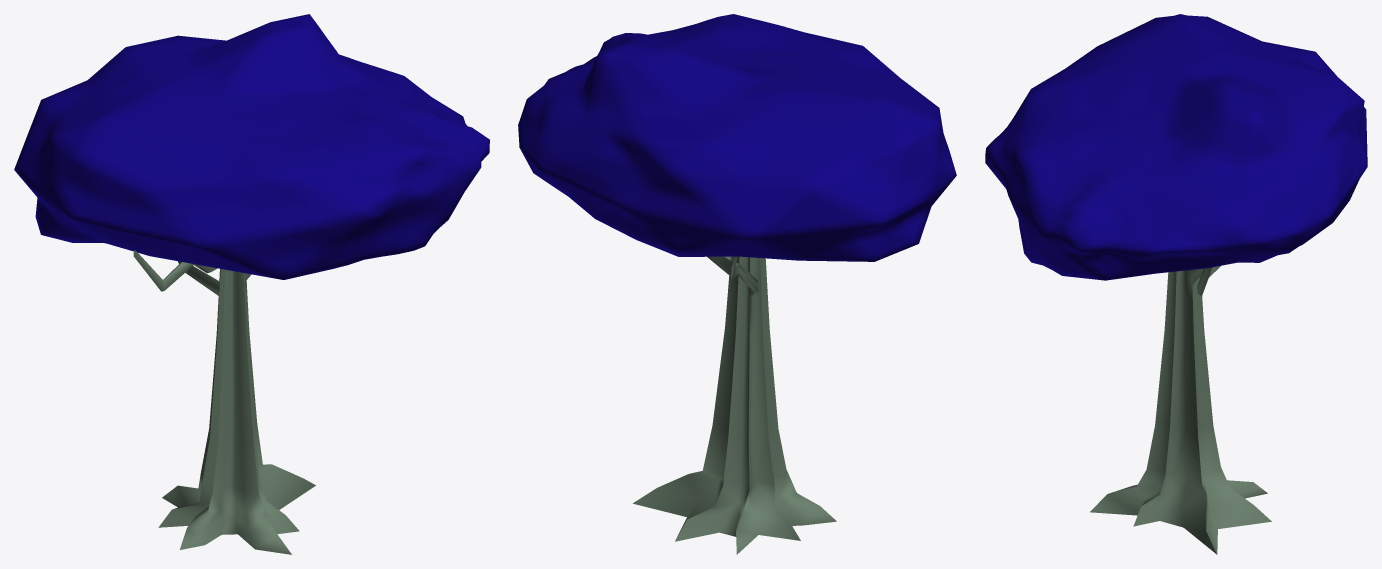
File: Tree.fbx
The picture shows the model from 3 angles, left to right: view 1: azimuth 30°, elevation 25°; view 2: azimuth 150°, elevation 25°; view 3: azimuth 270°, elevation 25°; orthographic projection. The views are drawn at different scales.
Visible parts, largest first — view 1: Tree; view 2: Tree; view 3: Tree.
Boxes of the visible parts, x1,y1,x2,y2 form: Tree: (14, 14, 489, 554); Tree: (518, 14, 956, 554); Tree: (985, 14, 1367, 554).
Size of the model in its own units: 633 by 698 by 539.
